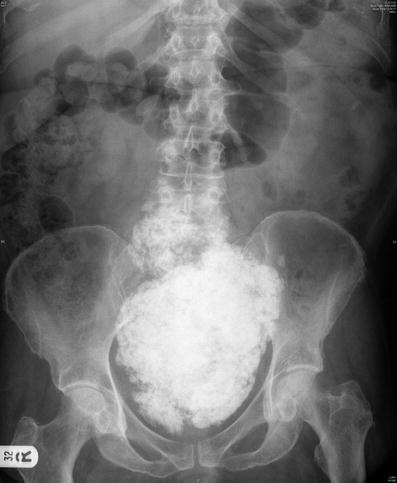Uterine fibroids: (115, 200, 283, 427)
